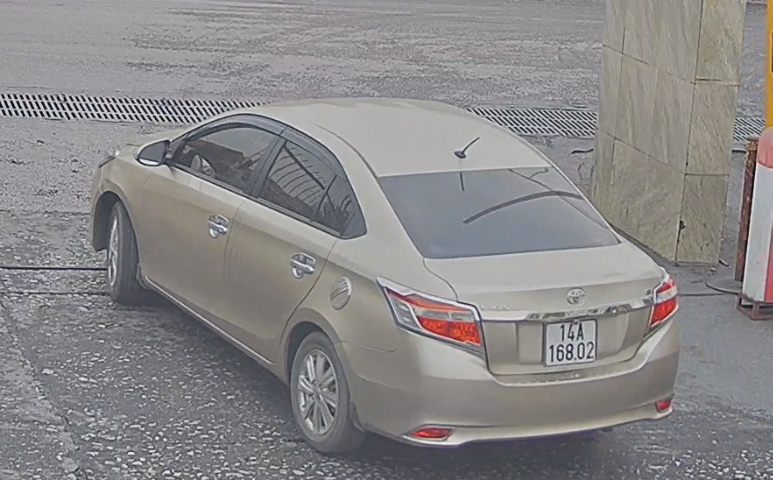vehicle plate: (540, 309, 600, 369)
